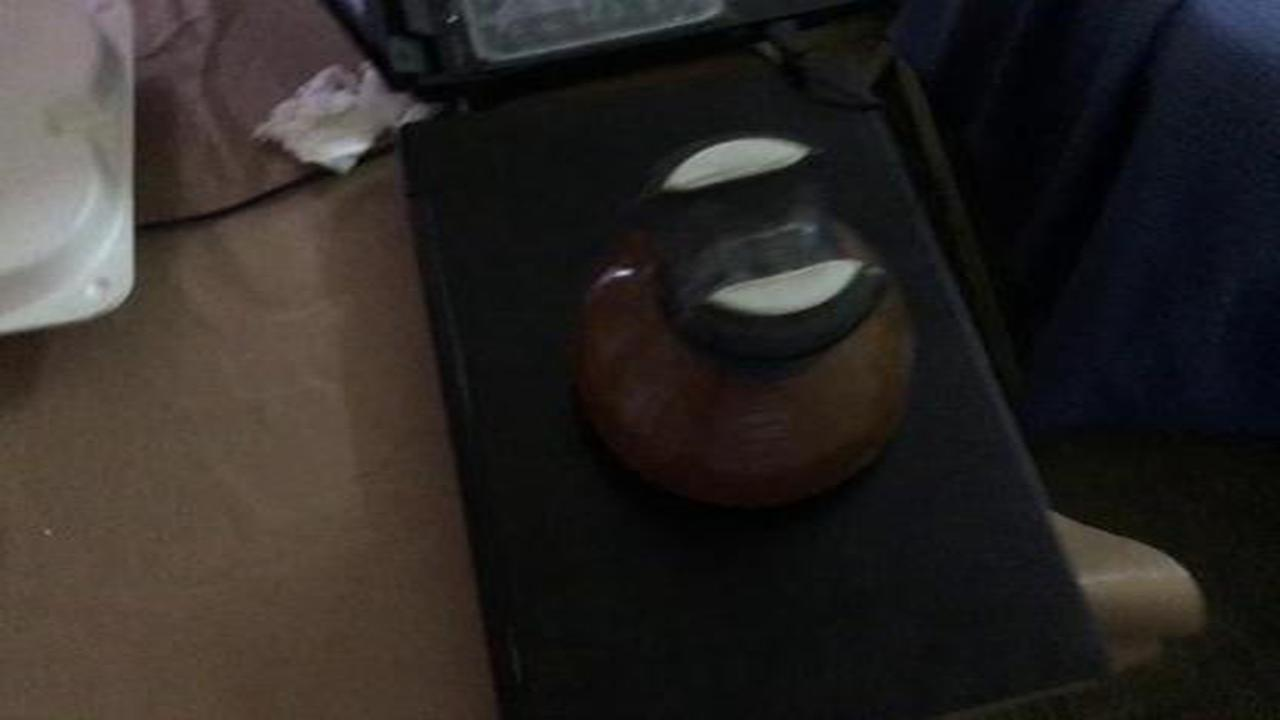insulator_pin: (545, 103, 954, 541)
